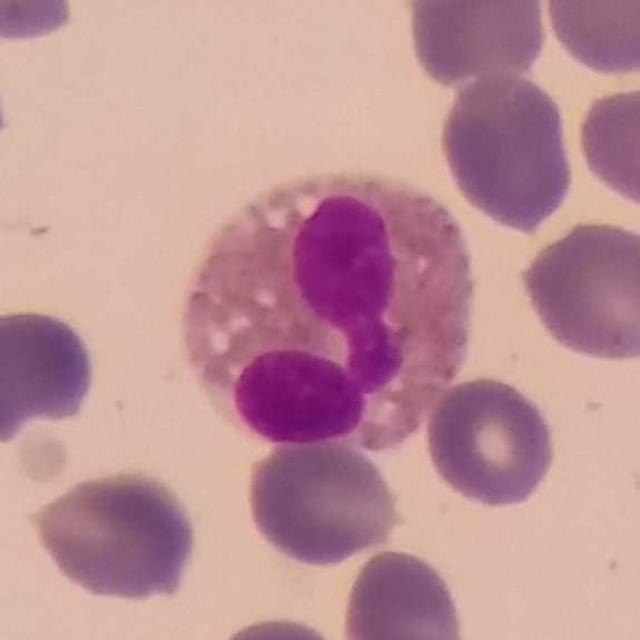Eosinophil: (180, 178, 488, 446)
RBC: (24, 466, 202, 604), (434, 69, 580, 234), (240, 430, 407, 570), (420, 371, 561, 511), (514, 216, 640, 366), (0, 300, 102, 458), (399, 0, 552, 91), (337, 544, 471, 640), (572, 75, 640, 219), (538, 0, 640, 81), (203, 610, 356, 640), (0, 0, 81, 48)
